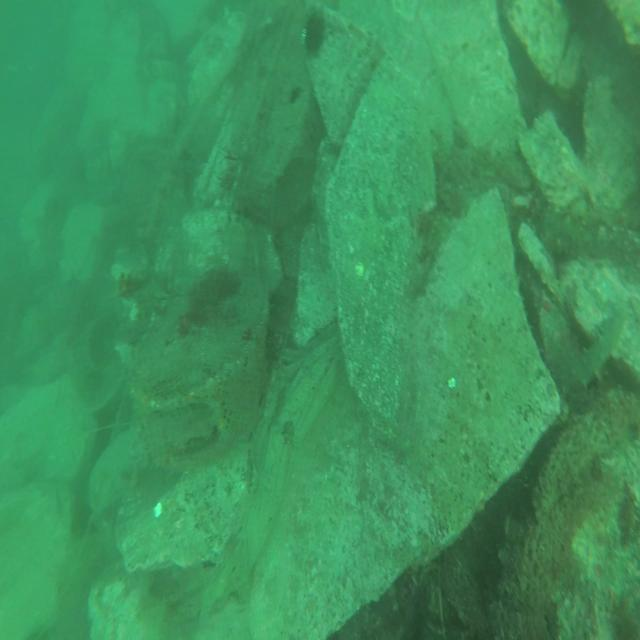echinus: (302, 4, 328, 62)
